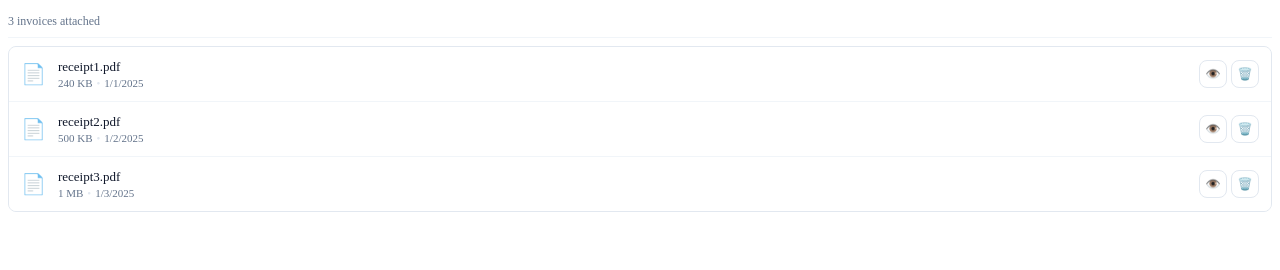
Test: InvoiceList › clears error when clicking close button
The width and height of the screenshot is (1280, 270).
// Trigger error
Click the 1st button titled "Delete invoice". click: (1245, 74)
box: [1231,60,1259,88]
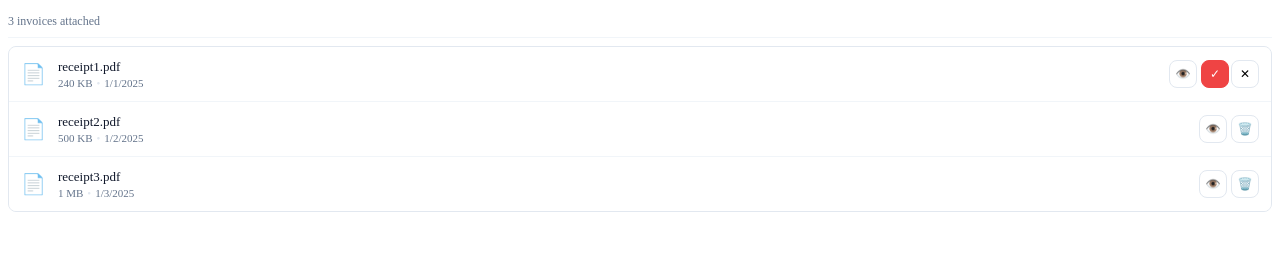
Click the button titled "Confirm delete". click: (1215, 74)
box: [1201,60,1229,88]
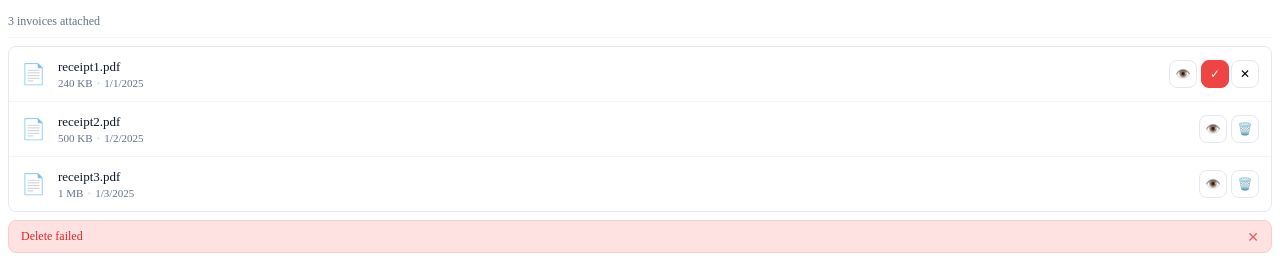
Check: the text "Delete failed" is shown, box [21,229,83,243]
// Clear error
Click the button named "Clear error". click: (1253, 236)
box: [1247,230,1259,244]
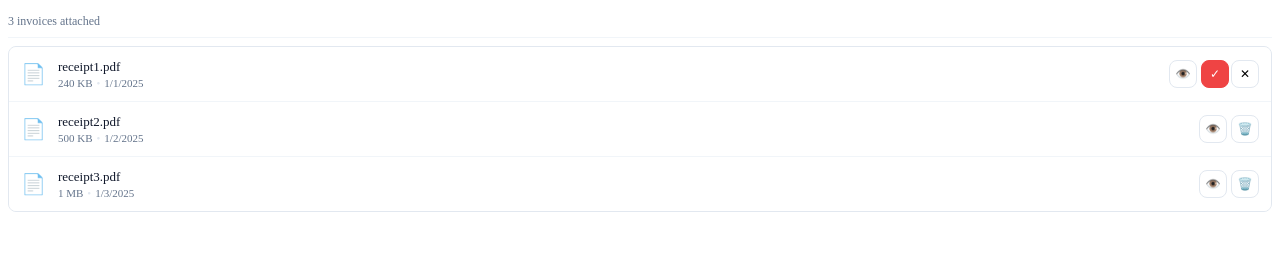
Check: the text "Delete failed" is gone
